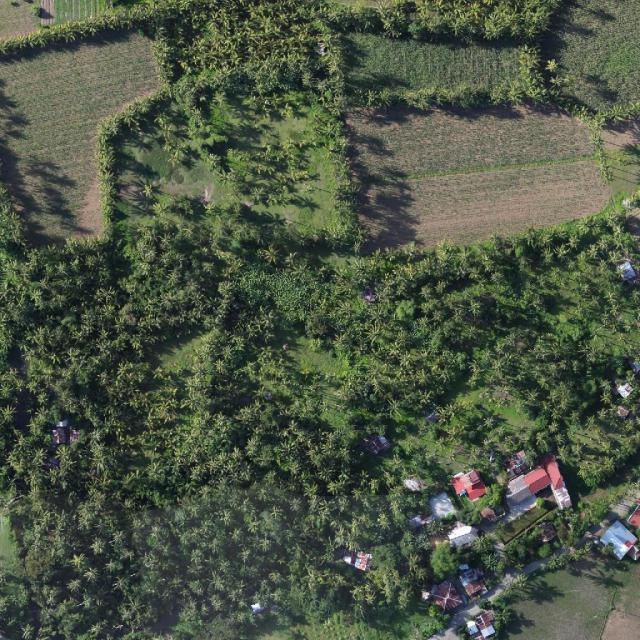agricultural_land: (347, 96, 611, 250), (0, 31, 159, 242), (0, 0, 106, 39), (602, 116, 640, 197)
building: (470, 453, 573, 531), (404, 490, 459, 535), (446, 465, 490, 508), (598, 519, 639, 561), (441, 518, 481, 554), (626, 539, 631, 542)
greenland: (500, 527, 551, 571)
